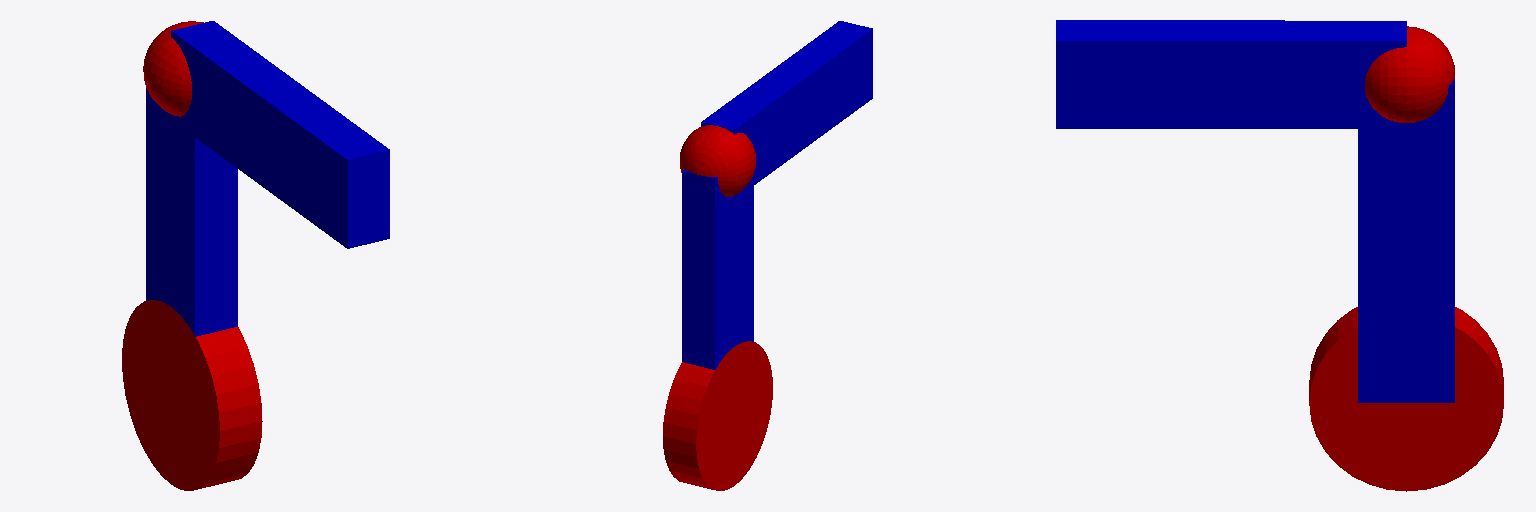
robot.urdf — TwoLinkStruct8352507416:
<?xml version="1.0"?>
<robot  name="TwoLinkStruct8352507416" >
 <material  name="blue" >
  <color  rgba="0 0 0.8 1.0" />
 </material>
 <material  name="red" >
  <color  rgba="0.8 0 0 1.0" />
 </material>
 <link  name="base_link" >
  <visual >
   <origin  rpy="0 1.5707 0"  xyz="0 0 0" />
   <material  name="red" />
   <geometry >
    <cylinder  length="0.05"  radius="0.1" />
   </geometry>
  </visual>
 </link>
 <joint  type="revolute"  name="joint1" >
  <parent  link="base_link" />
  <child  link="link1" />
  <origin  xyz="0 0 0"  rpy="0 0 0" />
  <axis  xyz="1 0 0" />
 </joint>
 <link  name="link1" >
  <inertial >
   <origin  rpy="0 0 0"  xyz="0 0 0.18" />
   <mass  value="0.37347898006439206" />
   <inertia  ixy="0.0"  iyy="0.00015561624169349673"  izz="0.0041113811055421825"  ixz="0.0"  ixx="0.0041113811055421825"  iyz="0.0" />
  </inertial>
  <visual >
   <origin  rpy="0 0 0"  xyz="0 0 0.18" />
   <material  name="blue" />
   <geometry >
    <box  size="0.05 0.1 0.36" />
   </geometry>
  </visual>
 </link>
 <joint  type="fixed"  name="joint-joint-1" >
  <parent  link="link1" />
  <child  link="joint-link-1" />
  <origin  xyz="0 0 0.36"  rpy="1.5707 0 0" />
  <axis  xyz="1 0 0" />
 </joint>
 <link  name="joint-link-1" >
  <inertial >
   <origin  rpy="0 0 0"  xyz="0 0 0" />
   <mass  value="0.452" />
   <inertia  ixy="0"  iyy="0"  izz="0"  ixz="0"  ixx="0"  iyz="0" />
  </inertial>
  <visual >
   <origin  rpy="0 0 0"  xyz="0 0 0" />
   <material  name="red" />
   <geometry >
    <sphere  radius="0.05" />
   </geometry>
  </visual>
 </link>
 <joint  type="revolute"  name="joint2" >
  <parent  link="link1" />
  <child  link="link2" />
  <origin  xyz="0 0 0.36"  rpy="1.5707 0 0" />
  <axis  xyz="1 0 0" />
 </joint>
 <link  name="link2" >
  <inertial >
   <origin  rpy="0 0 0"  xyz="0 0 0.18" />
   <mass  value="0.37347898006439206" />
   <inertia  ixy="0.0"  iyy="0.00015561624169349673"  izz="0.0041113811055421825"  ixz="0.0"  ixx="0.0041113811055421825"  iyz="0.0" />
  </inertial>
  <visual >
   <origin  rpy="0 0 0"  xyz="0 0 0.18" />
   <material  name="blue" />
   <geometry >
    <box  size="0.05 0.1 0.36" />
   </geometry>
  </visual>
 </link>
 <joint  type="fixed"  name="eef_joint" >
  <parent  link="link2" />
  <child  link="eef" />
  <origin  xyz="0 0 0.36"  rpy="0 0 0" />
 </joint>
 <link  name="eef" >
  <inertial >
   <origin  rpy="0 0 0"  xyz="0 0 0" />
   <mass  value="1" />
   <inertia  ixy="0"  iyy="0"  izz="0"  ixz="0"  ixx="0"  iyz="0" />
  </inertial>
 </link>
 <transmission  name="motor1" >
  <type  xmltext="SimpleTransmission" >
   SimpleTransmission
  </type>
  <actuator  name="motor1" >
   <mechanicalreduction  xmltext="1" >
    1
   </mechanicalreduction>
  </actuator>
  <joint  name="joint1" />
 </transmission>
 <transmission  name="motor2" >
  <type  xmltext="SimpleTransmission" >
   SimpleTransmission
  </type>
  <actuator  name="motor2" >
   <mechanicalreduction  xmltext="1" >
    1
   </mechanicalreduction>
  </actuator>
  <joint  name="joint2" />
 </transmission>
</robot>

<!-- {'carti': array([-0.1 ,  0.14,  0.85]), 'cartd': array([-0.1 ,  0.32,  1.29]), 'tau_mu': 0.0053, 'b0': 1.5e-05, 'Km': 0.19, 'k_velocity': 1.0606085407643906, 'tau_max_m': 1.2, 'omega_max_m': 4750, 'gear_ratio': 10, 'Kp': 15, 'Kd': 7.745966692414834, 'm_m': 0.452, 'l1': 0.36, 'l2': 0.36, 'k1': 646.2338, 'k2': 69400000, 'k3': 56100000}-->

--- Render facts (derived) ---
3 views of the same robot in one strip: view 1: azimuth 30°, elevation 25°; view 2: azimuth 150°, elevation 25°; view 3: azimuth 270°, elevation 25° (orthographic).
Robot: TwoLinkStruct8352507416 — 5 links, 4 joints (2 revolute, 2 fixed); root link base_link; default pose: every joint at zero.
Visible links, largest first — view 1: link2, base_link, link1, joint-link-1; view 2: link2, link1, base_link, joint-link-1; view 3: link2, link1, base_link, joint-link-1.
Link boxes in pixels (x1=…): link2: x1=171, y1=21, x2=389, y2=248; base_link: x1=122, y1=300, x2=262, y2=490; link1: x1=146, y1=88, x2=237, y2=394; joint-link-1: x1=143, y1=21, x2=203, y2=116; link2: x1=701, y1=21, x2=872, y2=197; link1: x1=682, y1=169, x2=753, y2=369; base_link: x1=663, y1=341, x2=772, y2=490; joint-link-1: x1=680, y1=125, x2=755, y2=196; link2: x1=1056, y1=20, x2=1406, y2=128; link1: x1=1358, y1=65, x2=1454, y2=402; base_link: x1=1309, y1=307, x2=1503, y2=491; joint-link-1: x1=1365, y1=26, x2=1454, y2=122.
Size in the robot's own frame: 0.1 by 0.46 by 0.51 metres.
Geometry: primitives only (box / cylinder / sphere), no mesh files.
